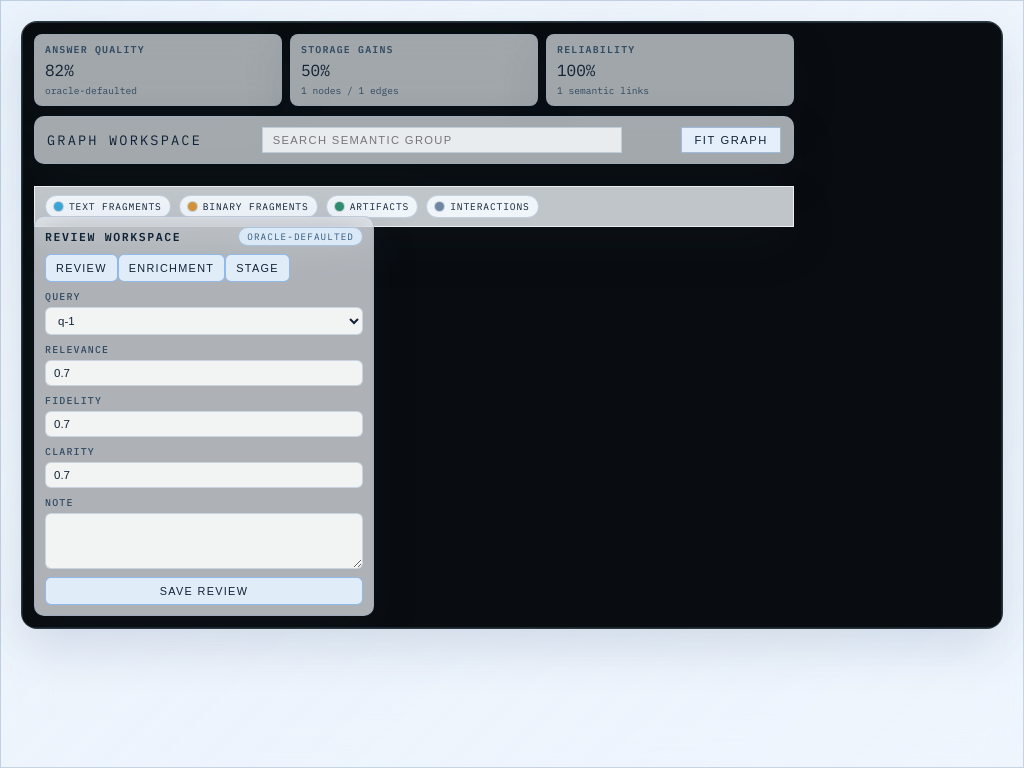
Scenario: renders overlay markers for highlighted nodes
The width and height of the screenshot is (1024, 768).
Step 1. Type "revenue" into the search field with placeholder "Search semantic group" → (442, 140), box [262,127,622,153]
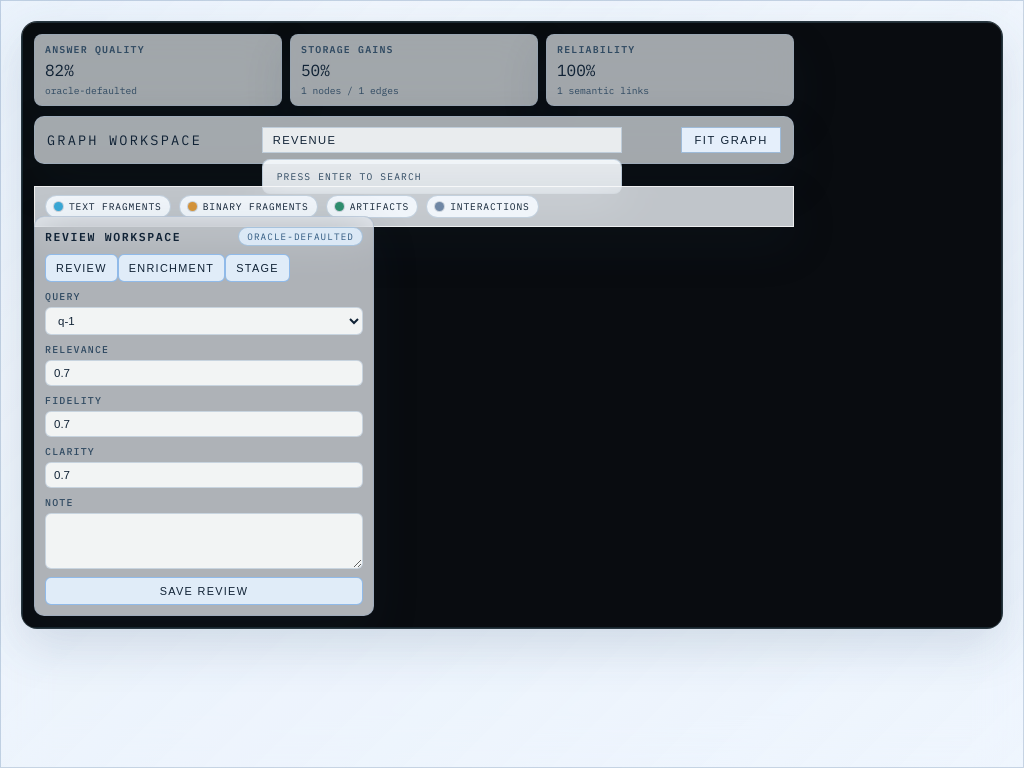
Step 2. Submit the form with placeholder "Search semantic group", box [262,127,622,153]
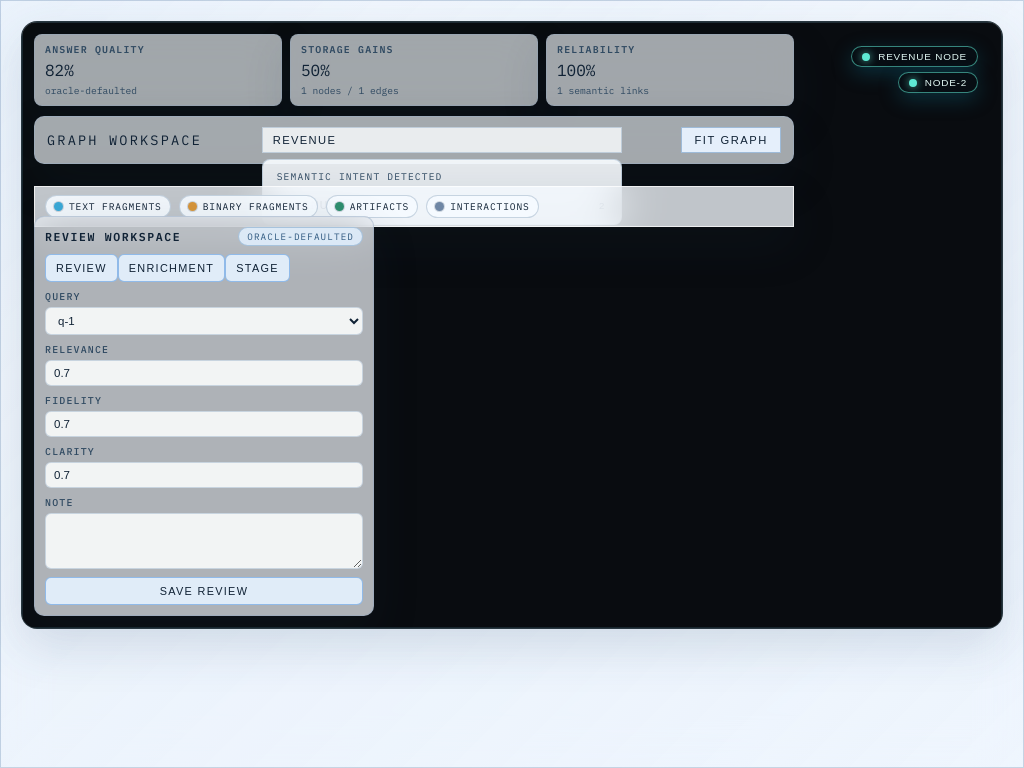
Now the button titled "Matched query evidence" is shown, box [851,46,978,67]
